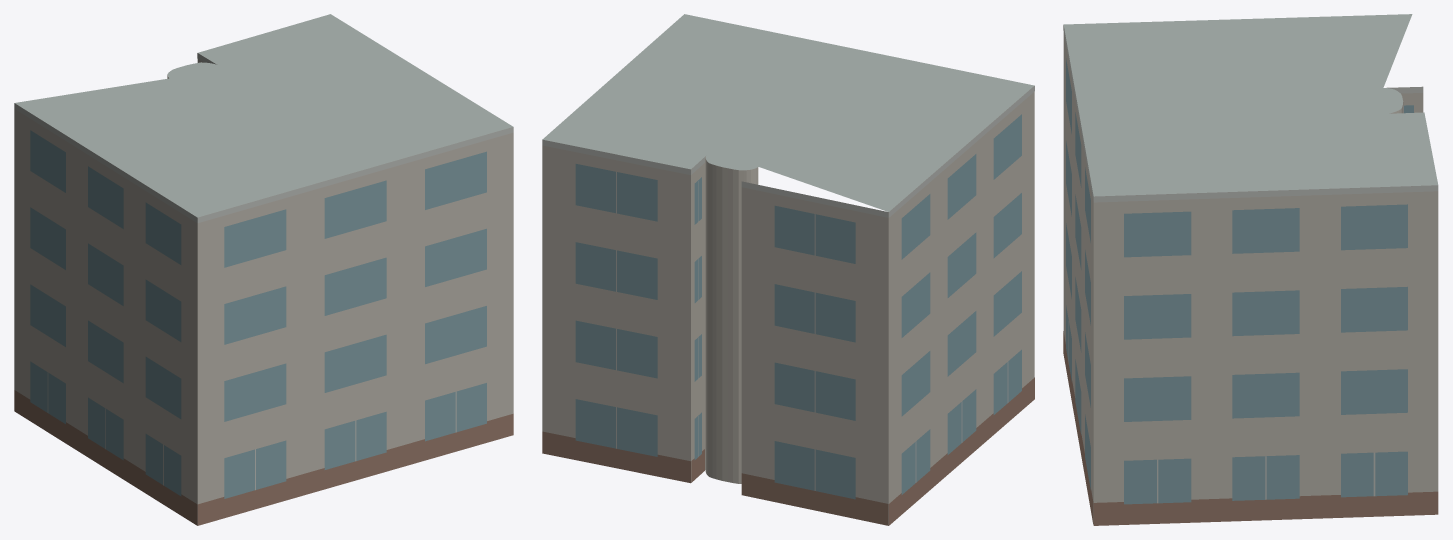
The model's file is survey-upis-32737172.glb.
3 views of the same model, side by side, from view 1: azimuth 30°, elevation 25°; view 2: azimuth 150°, elevation 25°; view 3: azimuth 270°, elevation 25° (orthographic). The views are drawn at different scales.
Visible parts, largest first — view 1: survey-upis-32737172.tmp; view 2: survey-upis-32737172.tmp; view 3: survey-upis-32737172.tmp.
Boxes of the visible parts, x1,y1,x2,y2 form: survey-upis-32737172.tmp: (14, 14, 513, 525); survey-upis-32737172.tmp: (542, 14, 1034, 525); survey-upis-32737172.tmp: (1063, 14, 1438, 525).
Bounding box in the file's own units: 15.63 × 13.15 × 13.57.
